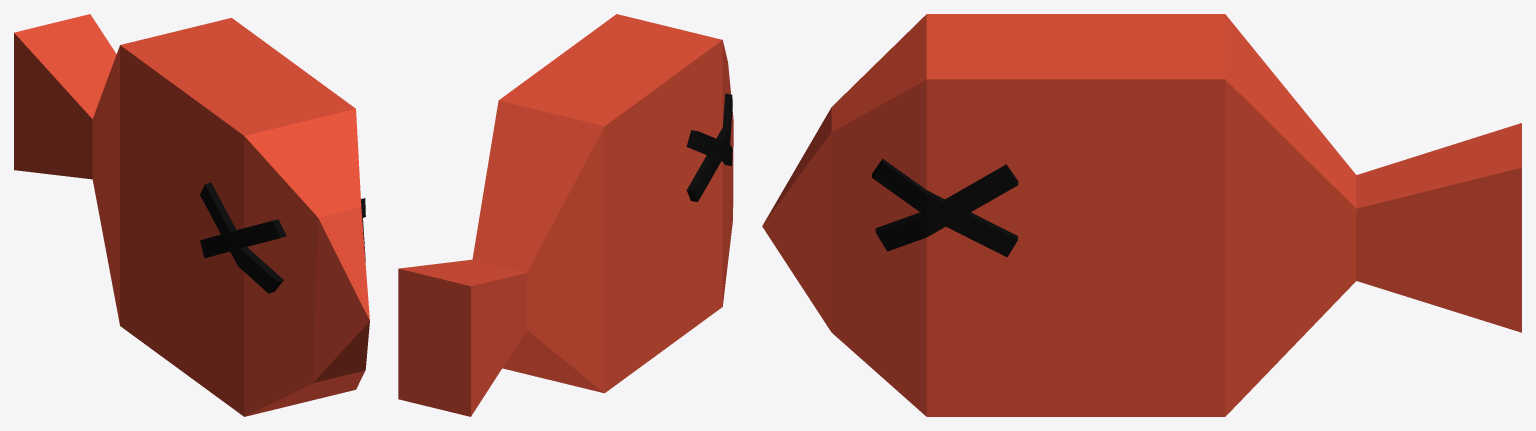
The model's file is fish_f.fbx.
3 renders of one model, left to right at view 1: azimuth 30°, elevation 25°; view 2: azimuth 150°, elevation 25°; view 3: azimuth 270°, elevation 25°, orthographic. The views are drawn at different scales.
Visible parts, largest first — view 1: Cube; view 2: Cube; view 3: Cube.
Part boxes in pixels (x1,y1,x2,y2): Cube: (14,14,369,416); Cube: (398,14,733,416); Cube: (762,14,1521,416).
Bounding box in the file's own units: 224 × 481 × 981.
